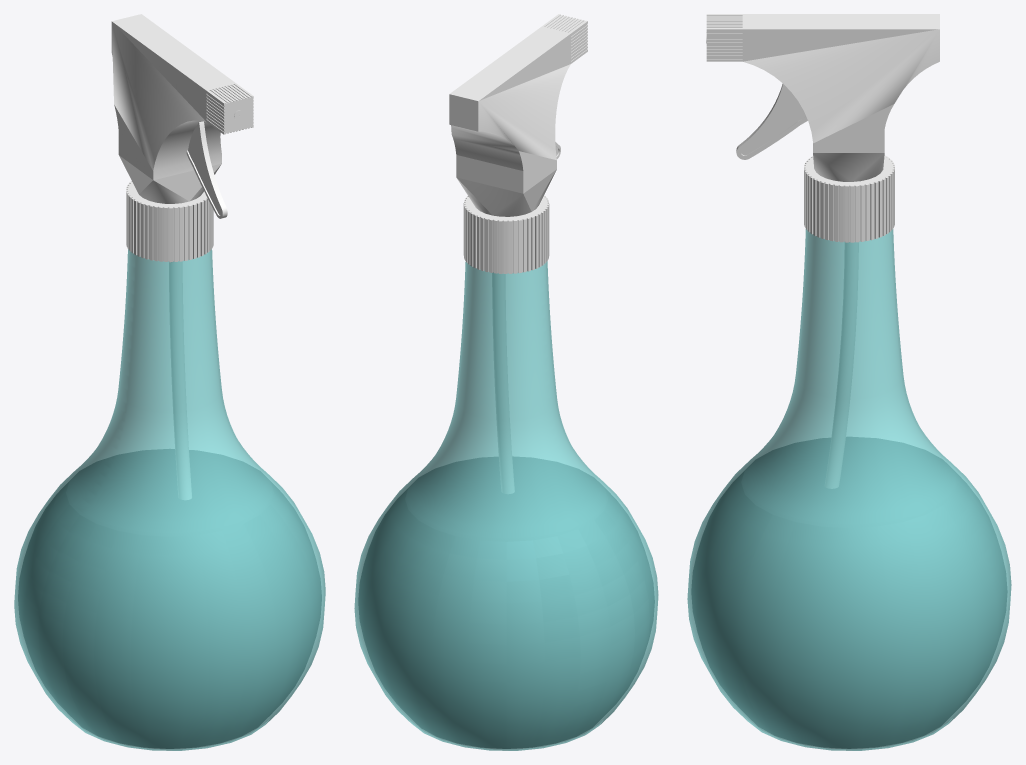
3 views of the same model, side by side, from view 1: azimuth 30°, elevation 25°; view 2: azimuth 150°, elevation 25°; view 3: azimuth 270°, elevation 25° (orthographic). The views are drawn at different scales.
Parts seen in each view (by area): view 1: Group12/mesh62/mesh62-geometry#mesh62-geometry; view 2: Group12/mesh62/mesh62-geometry#mesh62-geometry; view 3: Group12/mesh62/mesh62-geometry#mesh62-geometry.
Part boxes in pixels (x1,y1,x2,y2): Group12/mesh62/mesh62-geometry#mesh62-geometry: (14,14,325,750); Group12/mesh62/mesh62-geometry#mesh62-geometry: (354,14,658,750); Group12/mesh62/mesh62-geometry#mesh62-geometry: (687,14,1011,750).
Bounding box in the file's own units: 0.6141 × 1.43 × 0.6141.
